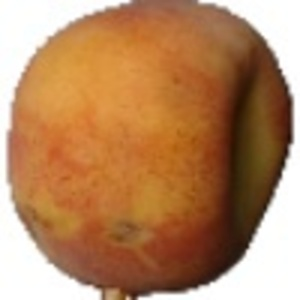pêssego: (4, 1, 296, 300)
